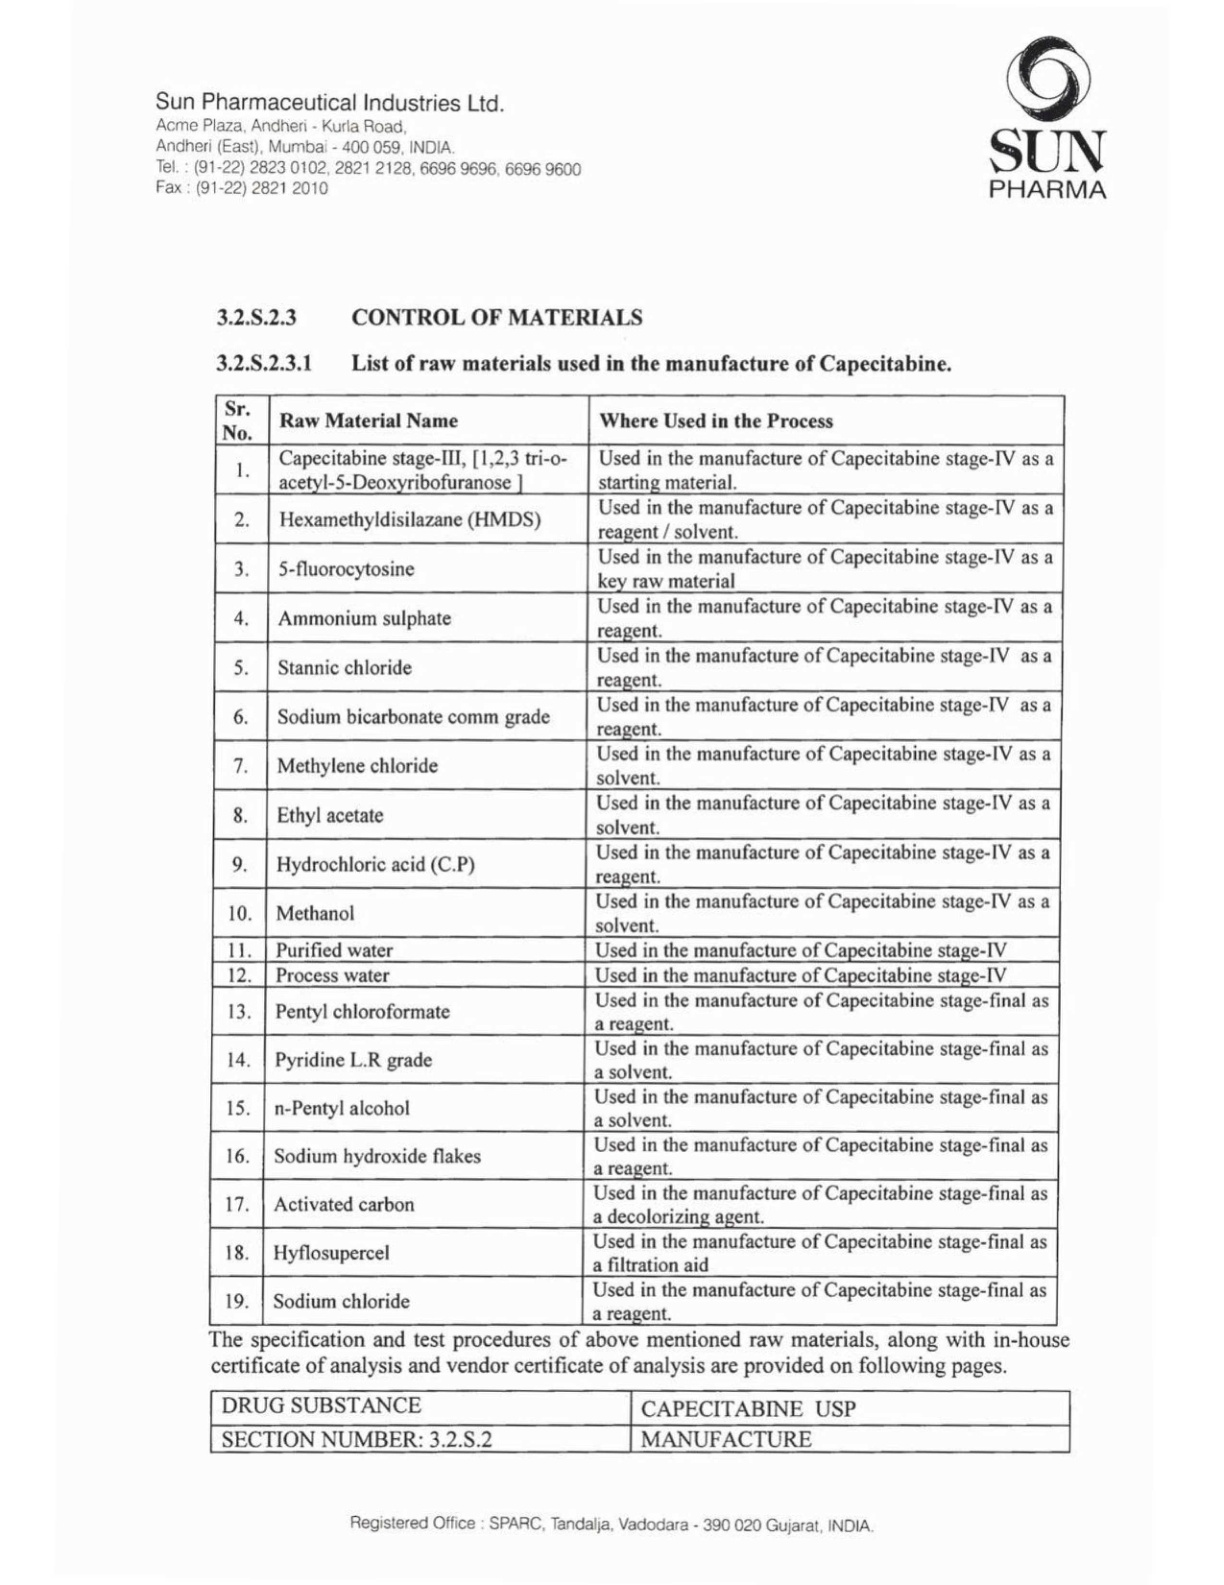full_lined: (208, 393, 1066, 1327), (210, 1388, 1072, 1454)
